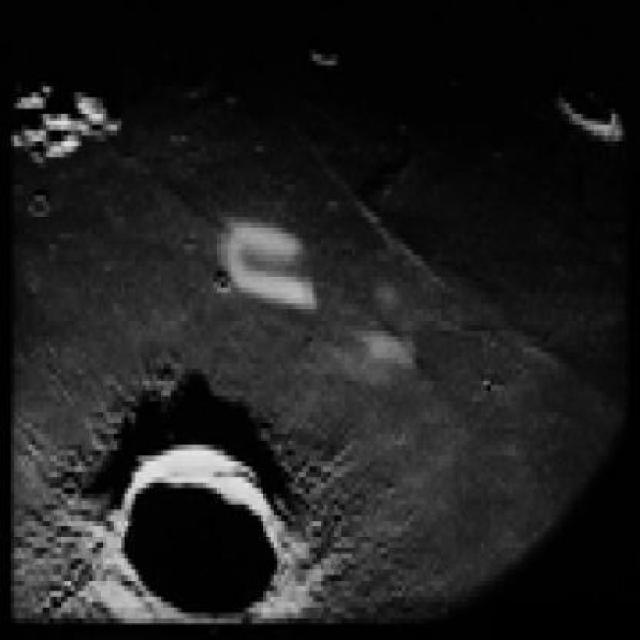crater: (115, 454, 288, 626)
